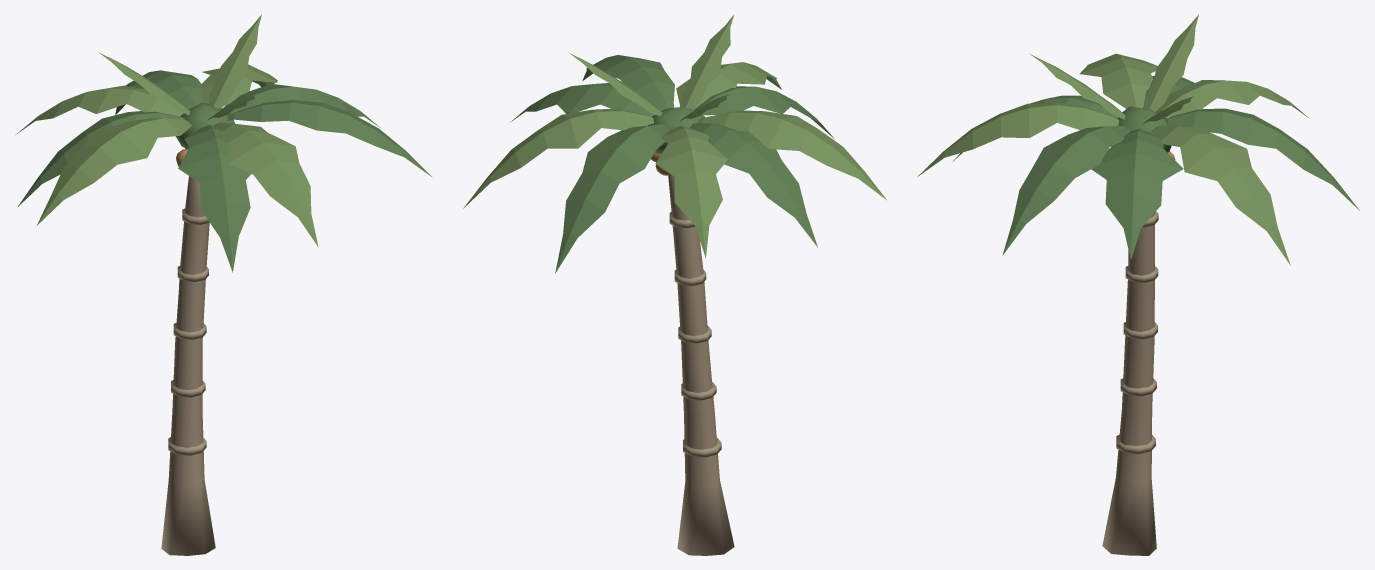
File: v_tree_palm2.glb
3 renders of one model, left to right at view 1: azimuth 30°, elevation 25°; view 2: azimuth 150°, elevation 25°; view 3: azimuth 270°, elevation 25°, orthographic. The views are drawn at different scales.
Parts seen in each view (by area): view 1: Palm; view 2: Palm; view 3: Palm.
Part boxes in pixels (x1=…): Palm: x1=16, y1=14, x2=432, y2=555; Palm: x1=463, y1=14, x2=886, y2=555; Palm: x1=917, y1=14, x2=1359, y2=555.
Size of what is drawn, in the model's own units: 5.47 by 7.05 by 5.63.
